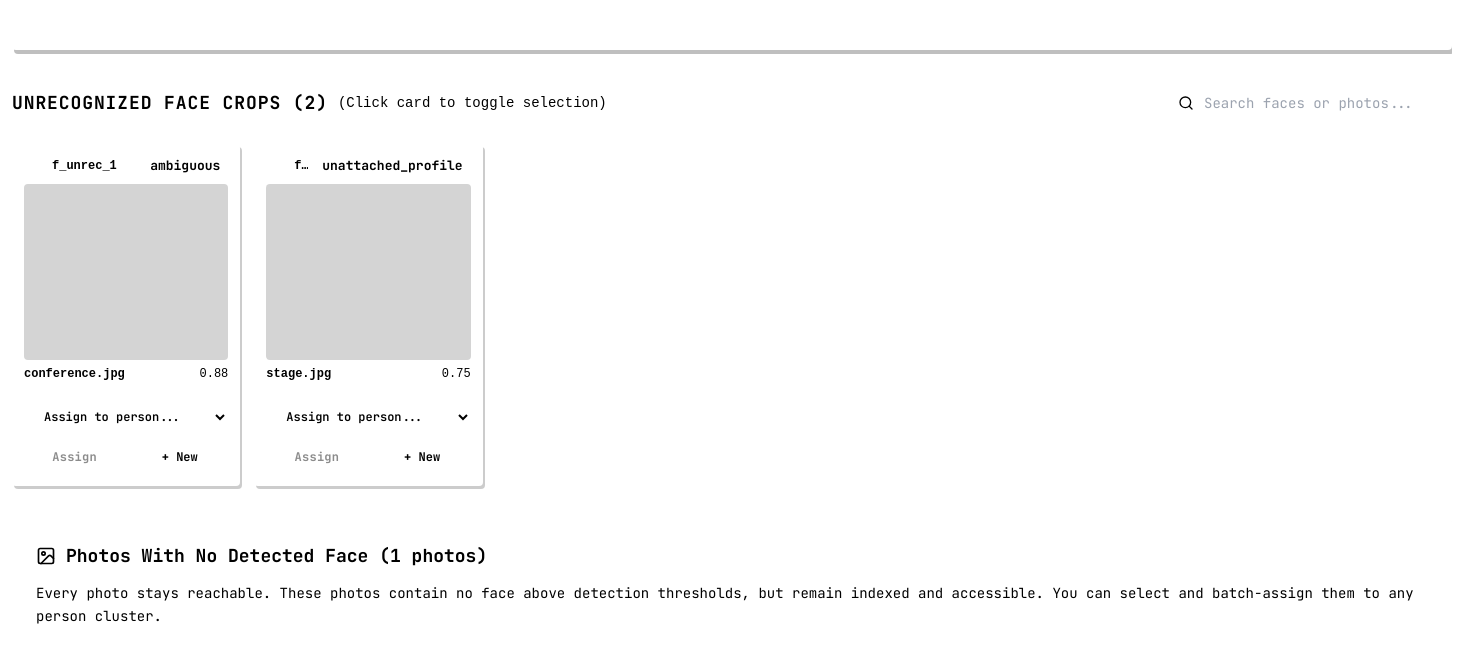
Test case: Revamped Unrecognized Triage & Image Viewer › renders individual card target preview when a person is chosen in card dropdown
(page scrolled)
Select "Alice Smith (2)" in the dropdown with test id "assign-target-select" below "conference.jpg" at point(126, 417), box [24,400,228,434]
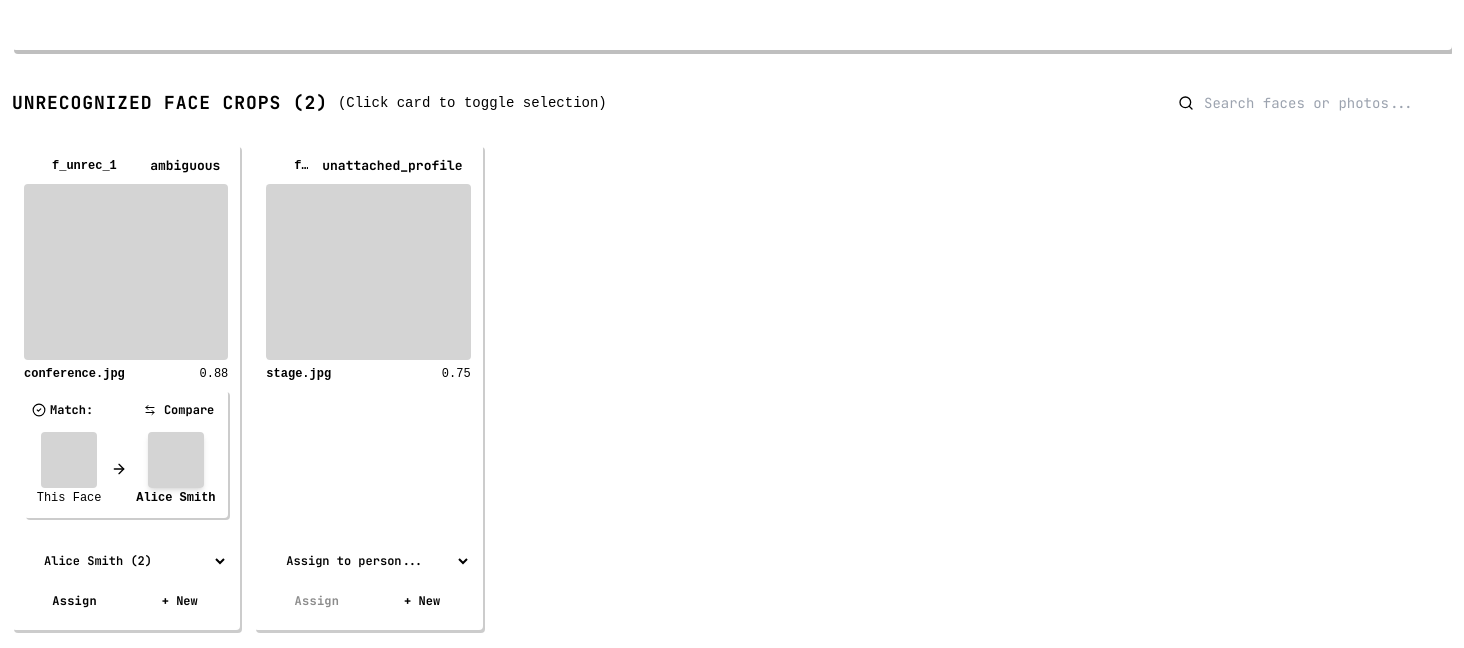
Now the element with id "selected-person-preview-f_unrec_1" is shown, box [24,390,228,518]
Now the element with id "selected-person-preview-f_unrec_1" shows "Alice Smith", box [136,491,216,505]
Now the element with id "selected-person-preview-f_unrec_1" shows "Compare", box [138,398,220,422]
